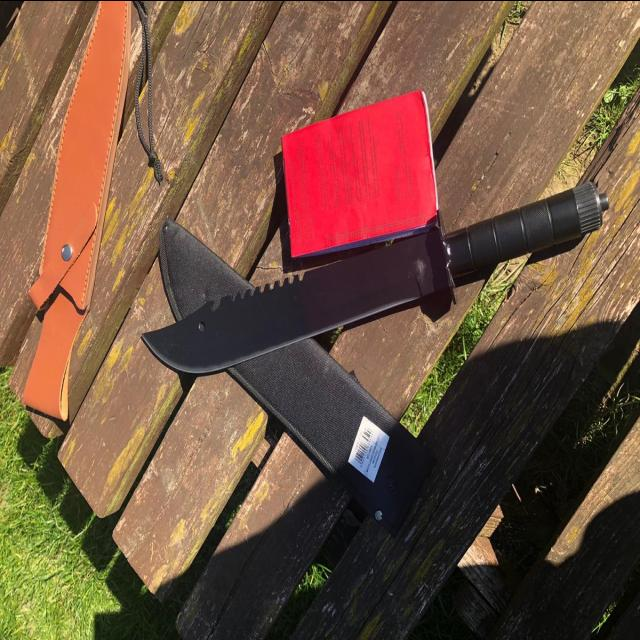Sharp-Object: (138, 173, 610, 375)
